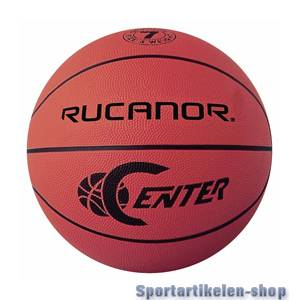basketball: (27, 27, 272, 274)
